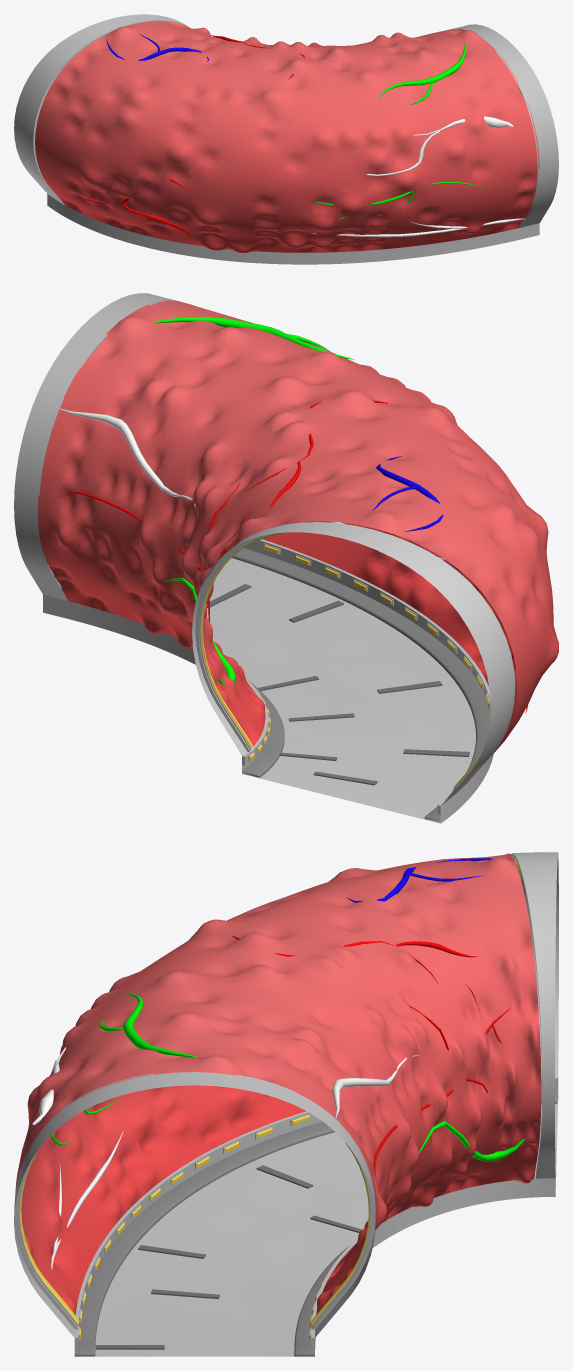
Rendered from Terowongan_2_Kanan.fbx.
The picture shows the model from 3 angles, top to bottom: view 1: azimuth 30°, elevation 25°; view 2: azimuth 150°, elevation 25°; view 3: azimuth 270°, elevation 25°; orthographic projection. The views are drawn at different scales.
Parts seen in each view (by area): view 1: Terowongan 2_Kanan; view 2: Terowongan 2_Kanan; view 3: Terowongan 2_Kanan.
Boxes of the visible parts, x1,y1,x2,y2 form: Terowongan 2_Kanan: [14, 14, 558, 264]; Terowongan 2_Kanan: [14, 293, 558, 823]; Terowongan 2_Kanan: [14, 852, 558, 1356].
Bounding box in the file's own units: 989 × 450 × 794.
4 materials, 4 textured.
